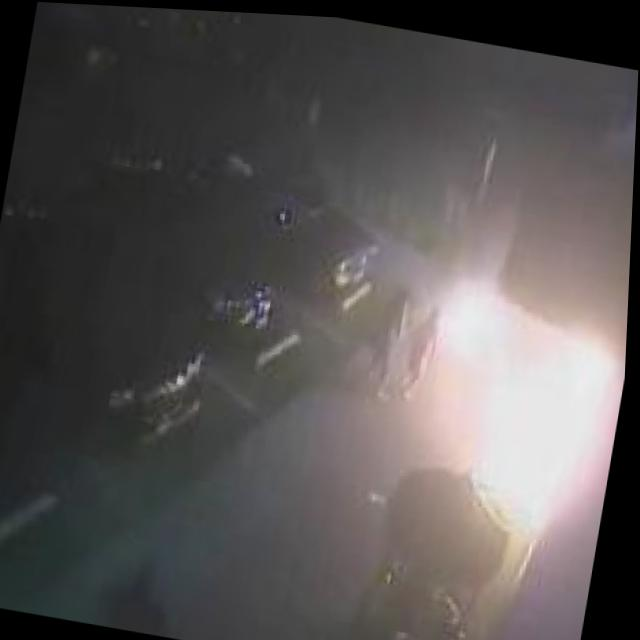fire: (402, 261, 631, 538)
